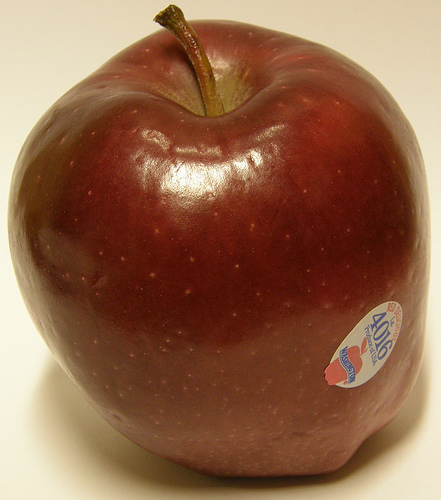apple: (16, 3, 433, 478)
